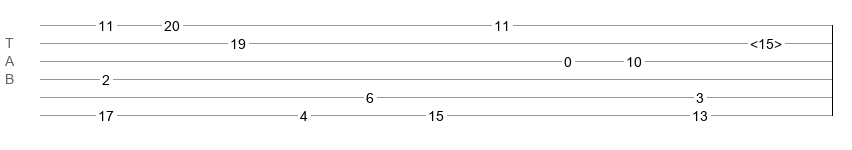0: (564, 54, 572, 64)
10: (626, 54, 642, 64)
11: (98, 18, 114, 28), (494, 18, 510, 28)
13: (692, 108, 708, 118)
15: (428, 108, 444, 118)
17: (98, 108, 114, 118)
19: (230, 36, 246, 46)
2: (102, 72, 110, 82)
20: (164, 18, 180, 28)
3: (696, 90, 704, 100)
4: (300, 108, 308, 118)
6: (366, 90, 374, 100)
harmonic: (750, 36, 782, 46)
